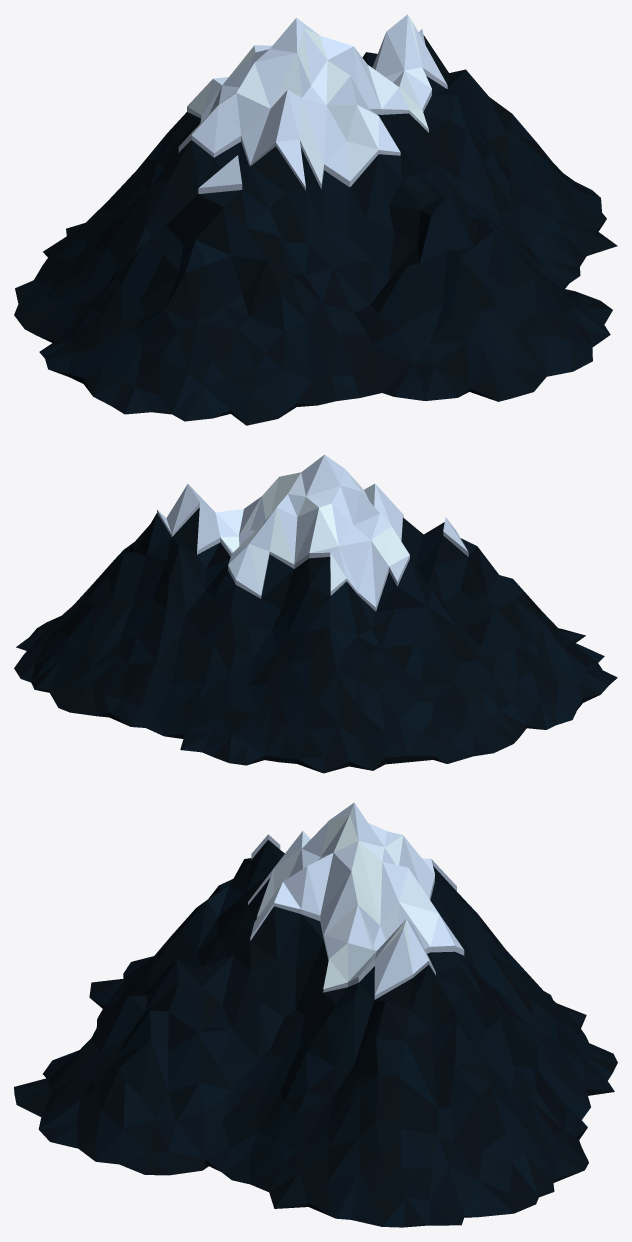
The model's file is ConceptMountain1.fbx.
The picture shows the model from 3 angles, top to bottom: view 1: azimuth 30°, elevation 25°; view 2: azimuth 150°, elevation 25°; view 3: azimuth 270°, elevation 25°; orthographic projection. The views are drawn at different scales.
Visible parts, largest first — view 1: ConceptMountain1; view 2: ConceptMountain1; view 3: ConceptMountain1.
Part boxes in pixels (x1=…): ConceptMountain1: x1=14, y1=14, x2=617, y2=425; ConceptMountain1: x1=14, y1=454, x2=617, y2=773; ConceptMountain1: x1=14, y1=802, x2=617, y2=1227.
Bounding box in the file's own units: 2.63 × 1.14 × 2.32.
